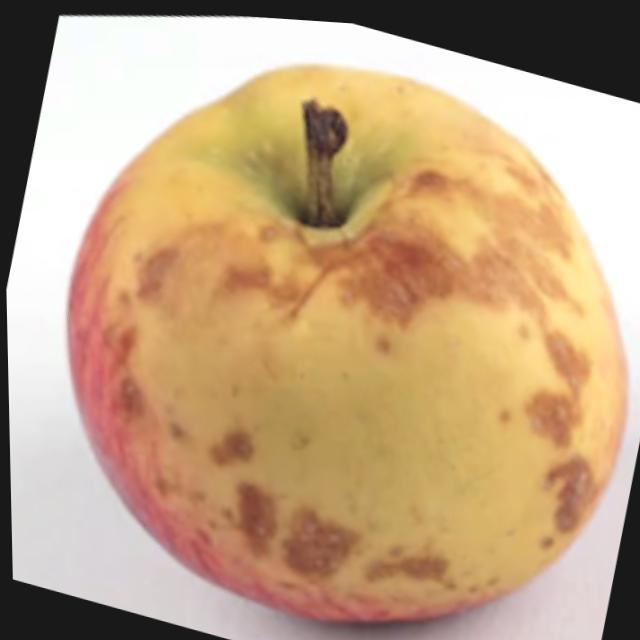organik: (26, 1, 640, 640)
